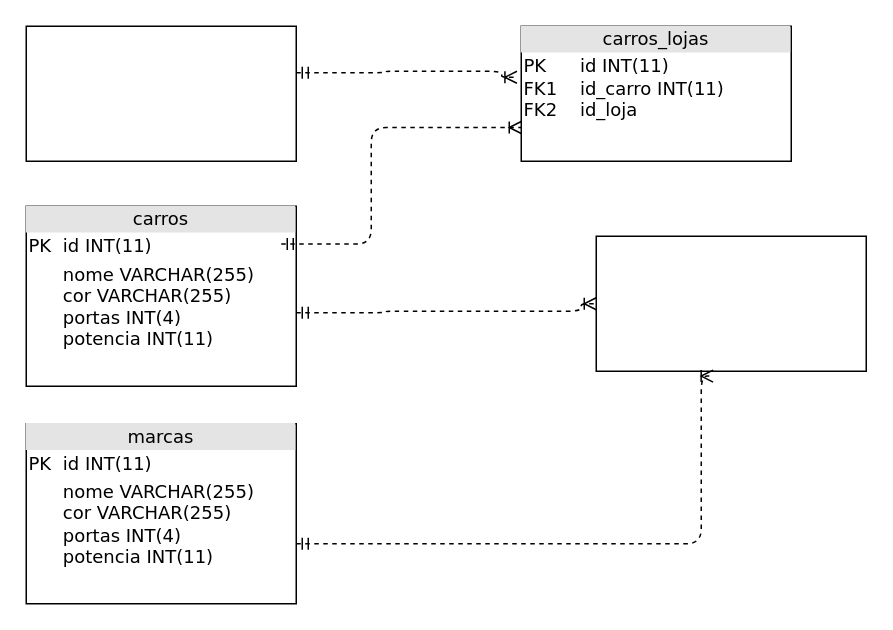
Image size: 893x630. Some labels were removed from this diagram. Here are the shapes that lost their labels. From the top down, the box of each, then its label:
(25, 25, 296, 161): lojas PK id INT(11) nome VARCHAR(255) endereco VARCHAR(255)
(595, 235, 866, 371): carros_marcas PK FK1 FK2 id INT(11) id_carro INT(11) id_marca
